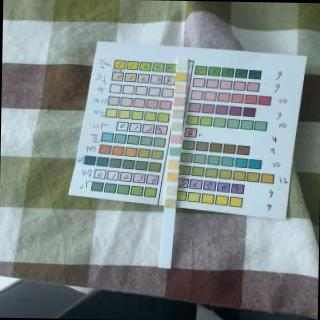mark: (164, 186, 177, 196), (165, 172, 178, 182), (170, 122, 182, 132), (169, 146, 180, 156), (176, 60, 187, 70), (172, 85, 185, 93), (164, 199, 175, 208), (167, 159, 178, 168), (173, 109, 183, 118), (171, 135, 182, 143), (176, 73, 186, 81), (173, 98, 184, 105)
